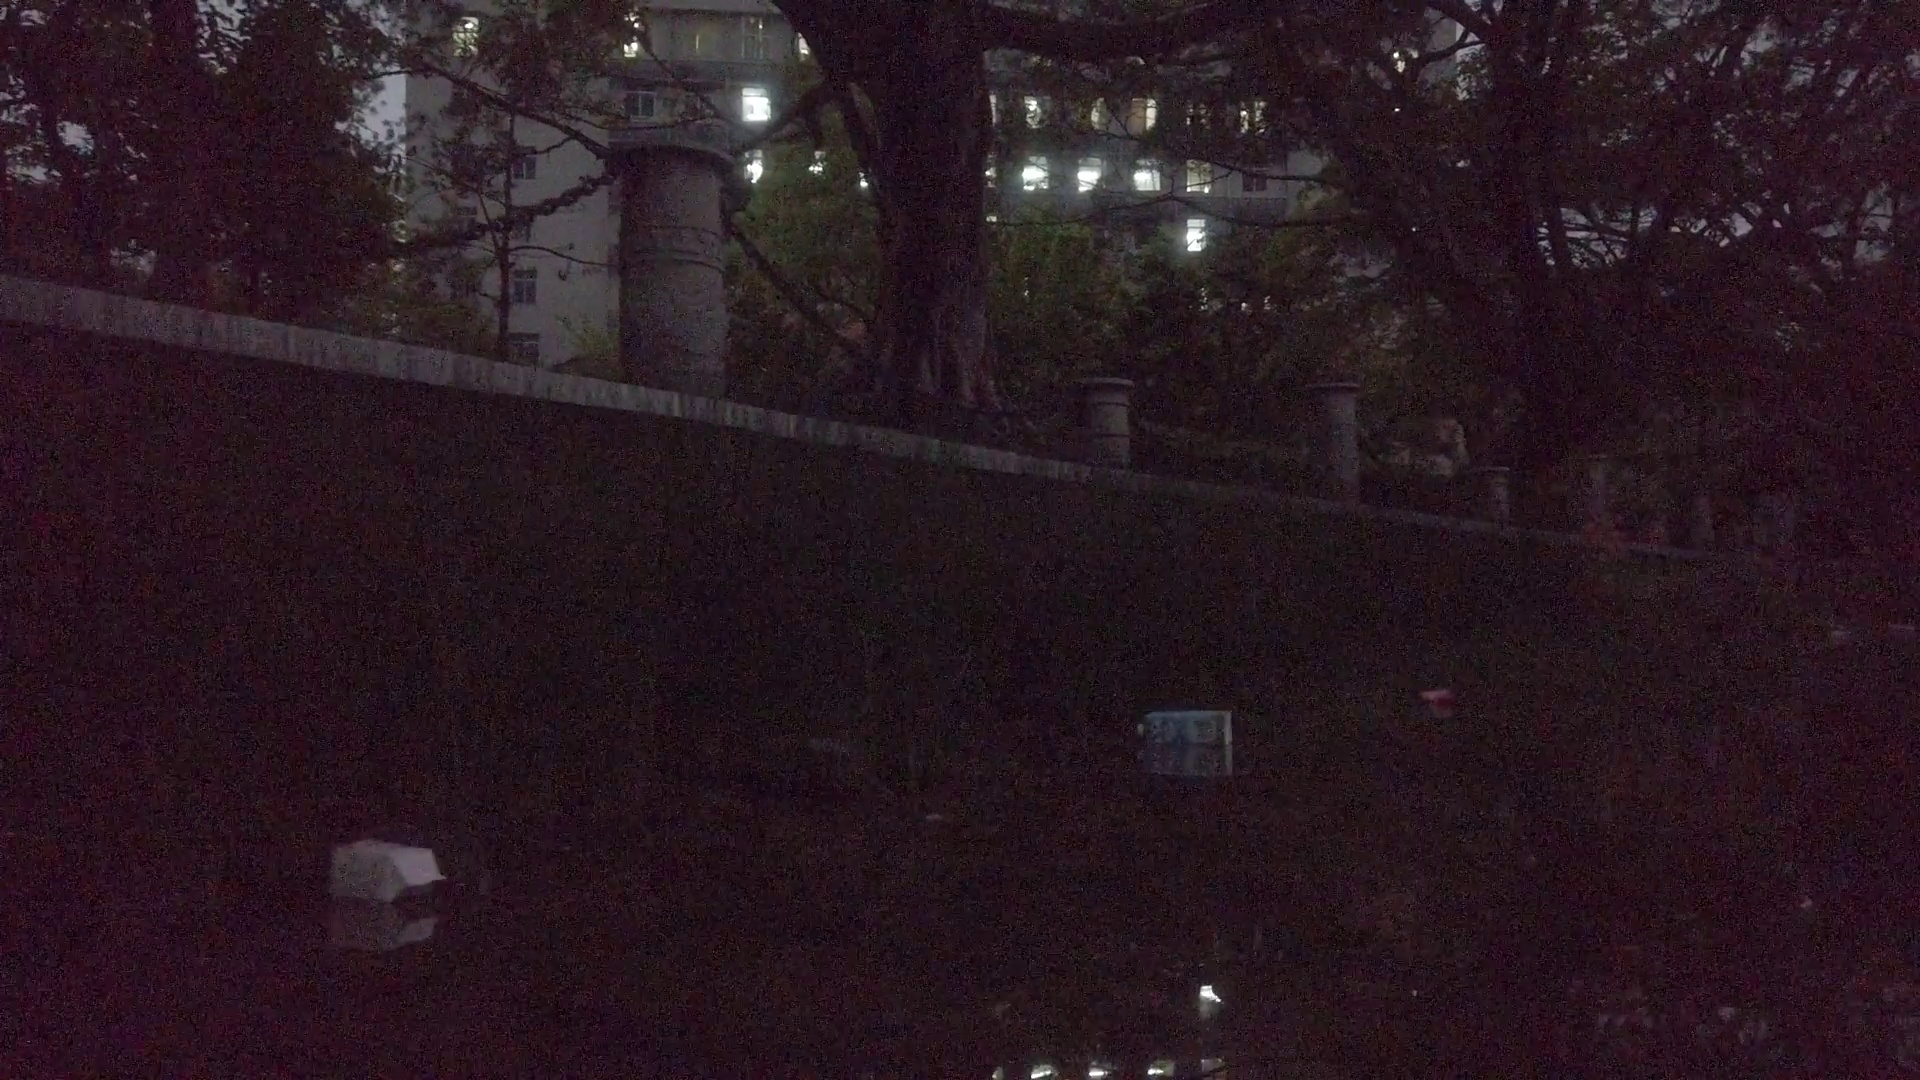bottle: (1883, 617, 1915, 636), (1420, 684, 1447, 703), (1824, 629, 1855, 644)
carton: (323, 836, 444, 901), (1137, 709, 1236, 741)
